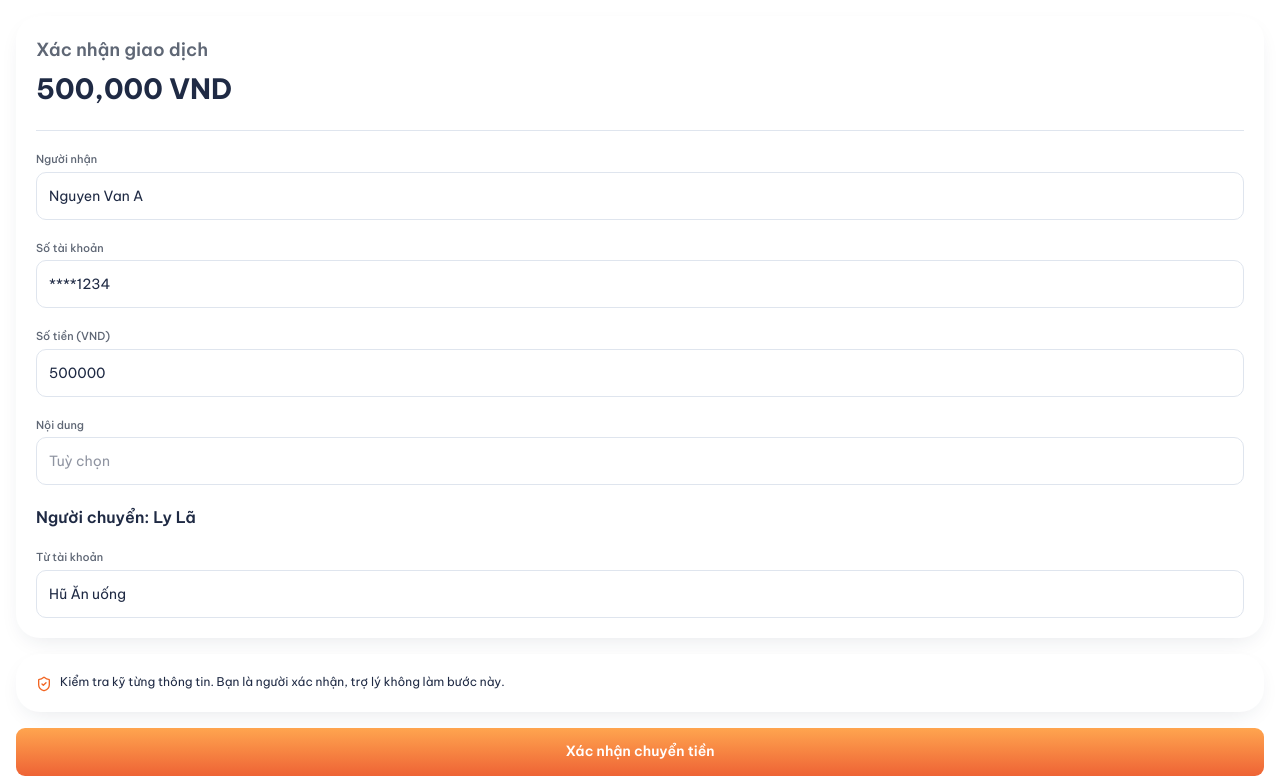
it: TransferConfirm — always create + categorize › double-submit creates only one txn (F#3)
(page scrolled)
Click the button "Xác nhận chuyển tiền". click: x=640, y=752
box: left=16, top=728, right=1264, bottom=776
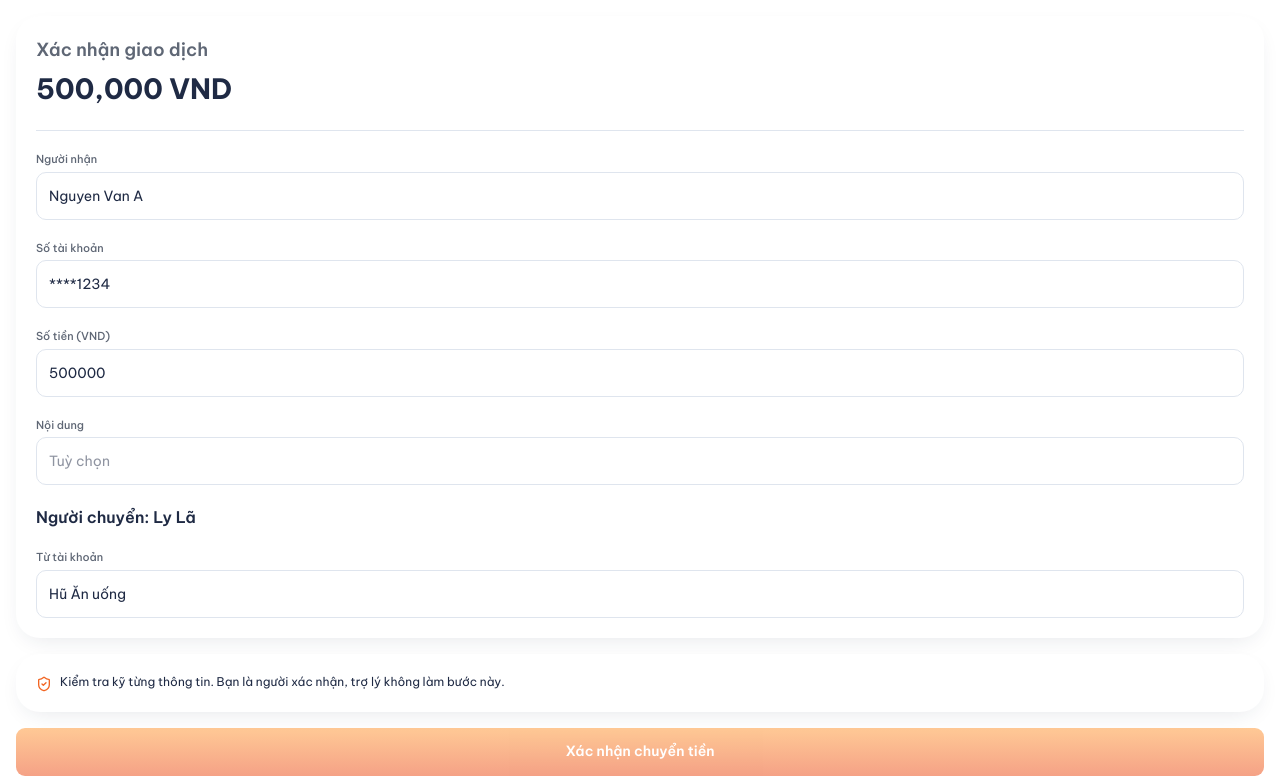
Click the button "Xác nhận chuyển tiền". click: x=640, y=752
box: left=16, top=728, right=1264, bottom=776
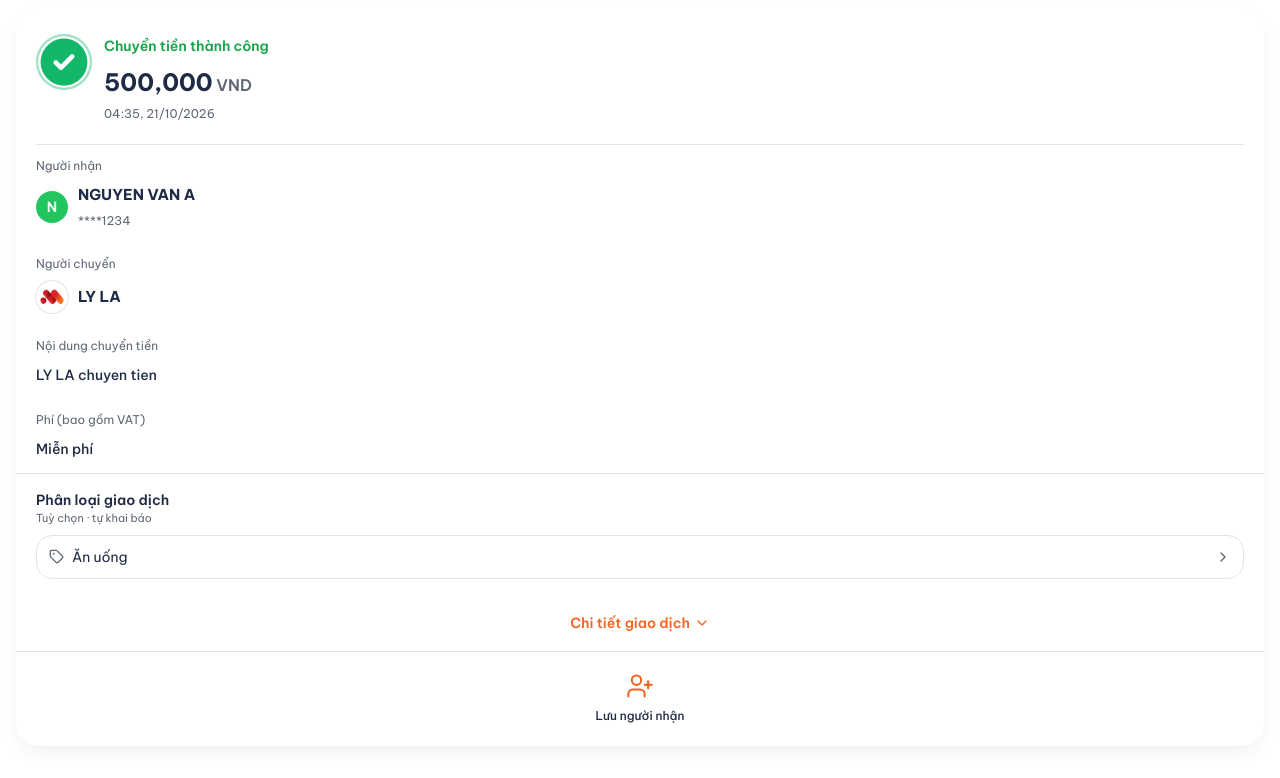
expect the text "Chuyển tiền thành công" is shown: met, box left=104, top=32, right=269, bottom=60
